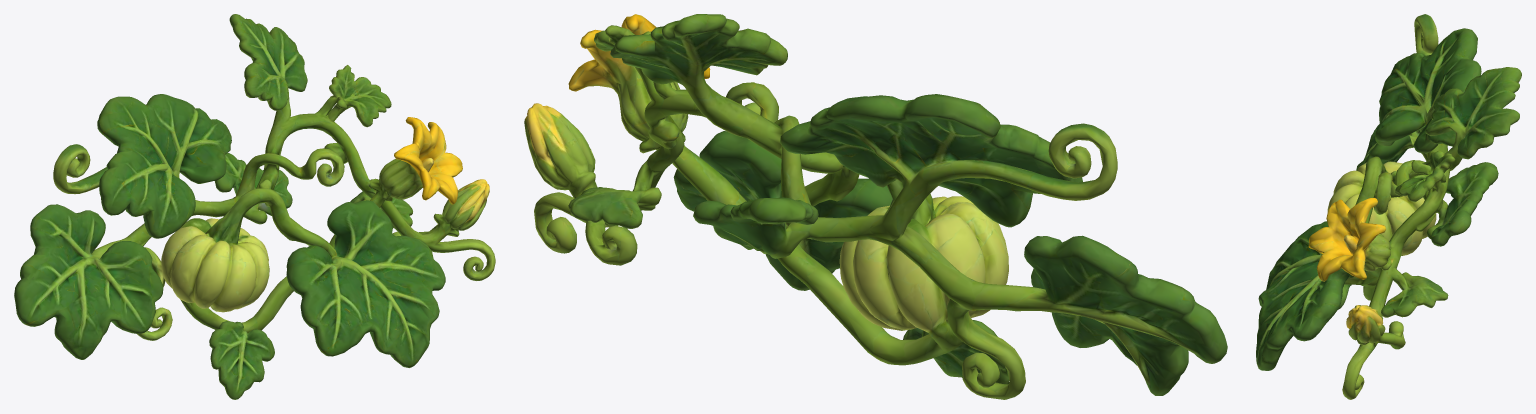
The model's file is pumpkin-growing.glb.
The picture shows the model from 3 angles, left to right: view 1: azimuth 30°, elevation 25°; view 2: azimuth 150°, elevation 25°; view 3: azimuth 270°, elevation 25°; orthographic projection. The views are drawn at different scales.
Size of the model in its own units: 1.9 by 1.15 by 0.9466.
1 material, 1 textured.
